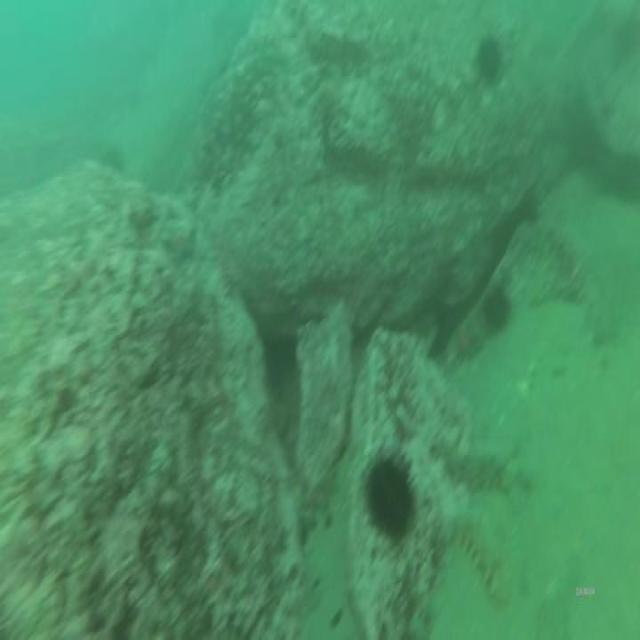echinus: (361, 433, 421, 550), (474, 36, 506, 86), (484, 283, 512, 332)
holothurian: (444, 507, 510, 615), (441, 449, 519, 498)
starfish: (164, 222, 202, 266), (451, 316, 481, 365)
